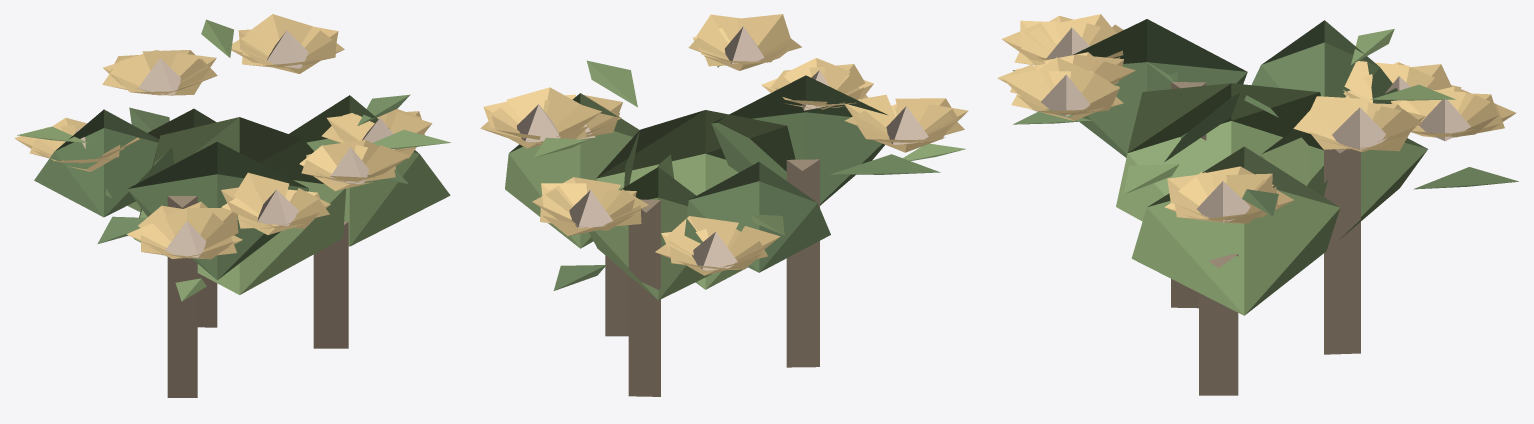
Rendered from hua.ju@flowering__summer.glb.
3 views of the same model, side by side, from view 1: azimuth 30°, elevation 25°; view 2: azimuth 150°, elevation 25°; view 3: azimuth 270°, elevation 25° (orthographic). The views are drawn at different scales.
Visible parts, largest first — view 1: hua.ju@flowering__summer; view 2: hua.ju@flowering__summer; view 3: hua.ju@flowering__summer.
Part boxes in pixels (left/top/right/bottom): hua.ju@flowering__summer: left=14, top=14, right=450, bottom=397; hua.ju@flowering__summer: left=480, top=14, right=968, bottom=396; hua.ju@flowering__summer: left=997, top=14, right=1518, bottom=395.
Bounding box in the file's own units: 1.24 × 0.8611 × 1.34.
